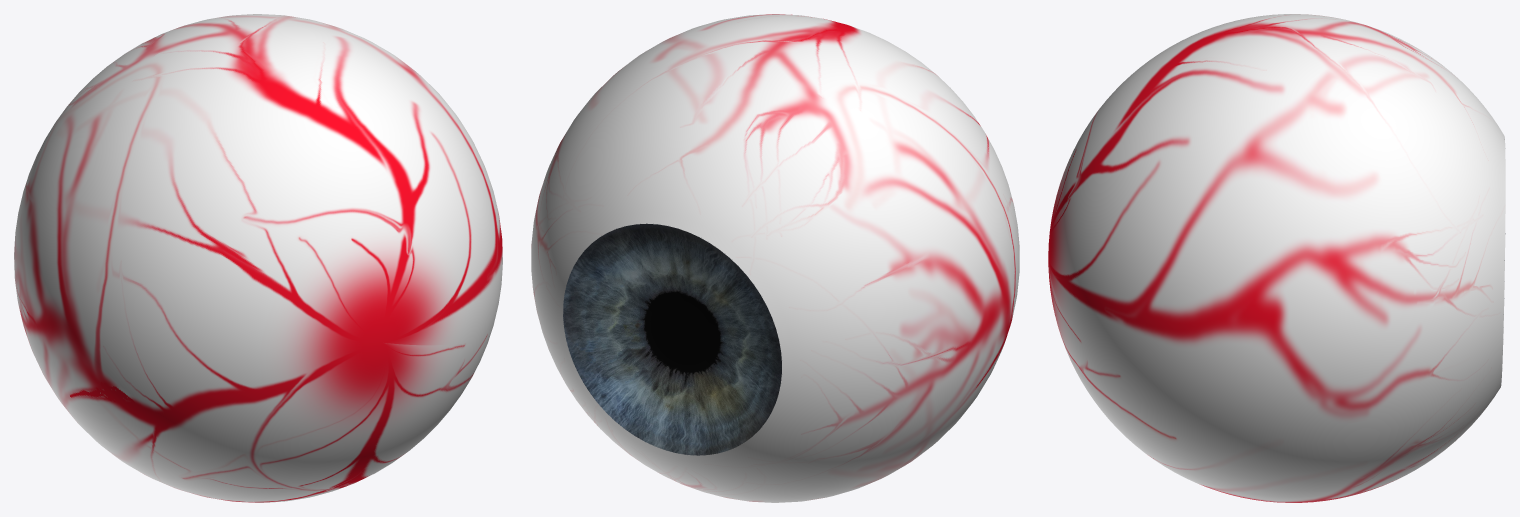
Rendered from eye.glb.
3 renders of one model, left to right at view 1: azimuth 30°, elevation 25°; view 2: azimuth 150°, elevation 25°; view 3: azimuth 270°, elevation 25°, orthographic.
Visible parts, largest first — view 1: Eye_2; view 2: Eye_2, Iris_1; view 3: Eye_2.
Part boxes in pixels (x1,y1,x2,y2): Eye_2: (14, 14, 502, 502); Eye_2: (531, 14, 1019, 502); Iris_1: (563, 223, 781, 455); Eye_2: (1048, 14, 1505, 502).
Size of what is drawn, in the model's own units: 0.0338 by 0.0338 by 0.0316.
Materials: 3 (2 with a texture image).
